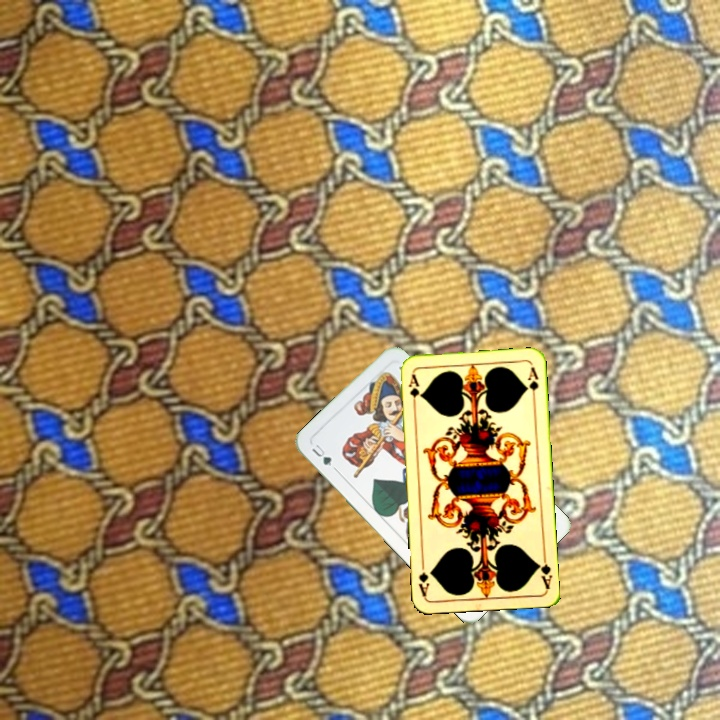GA: (534, 550, 554, 591), (405, 370, 422, 410)
GU: (308, 440, 334, 469)
